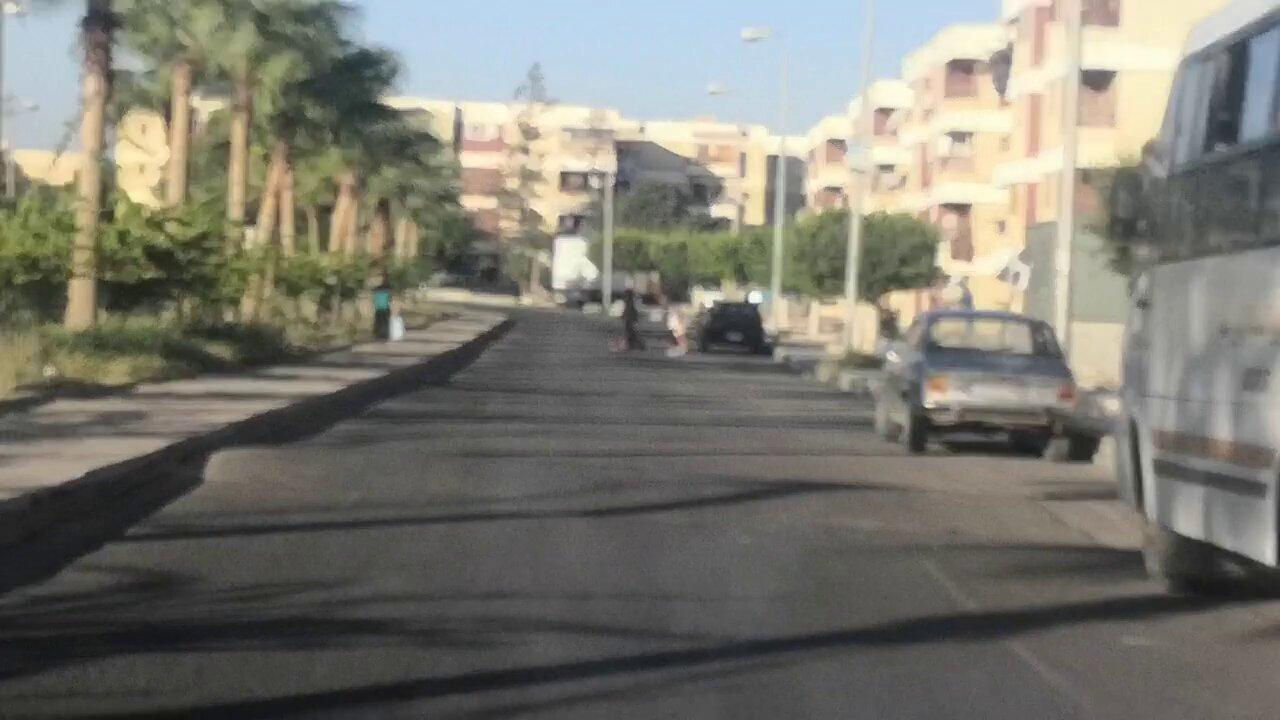Bump: (252, 427, 1080, 538)
